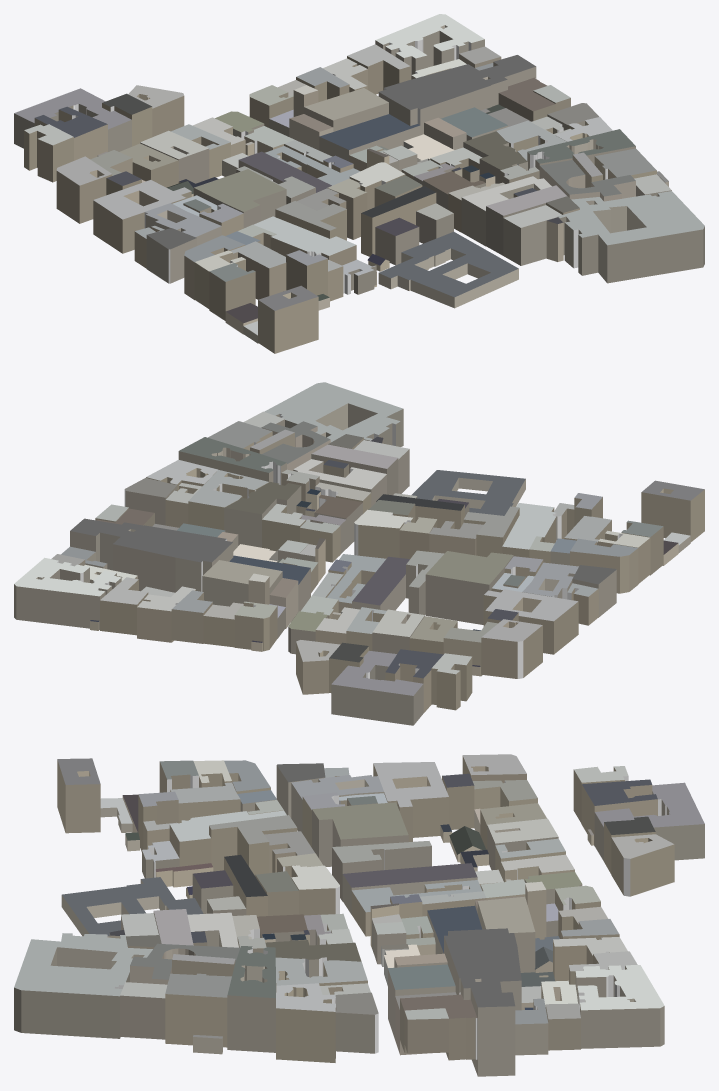
The picture shows the model from 3 angles, top to bottom: view 1: azimuth 30°, elevation 25°; view 2: azimuth 150°, elevation 25°; view 3: azimuth 270°, elevation 25°; orthographic projection. The views are drawn at different scales.
Visible parts, largest first — view 1: tuile; view 2: tuile; view 3: tuile.
Part boxes in pixels (x1,y1,x2,y2): tuile: (14,14,704,353); tuile: (14,382,704,725); tuile: (14,754,704,1076).
Size of the model in its own units: 261 by 36.91 by 293.
